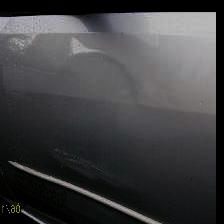door_dent: (22, 39, 145, 108), (35, 149, 147, 193)
